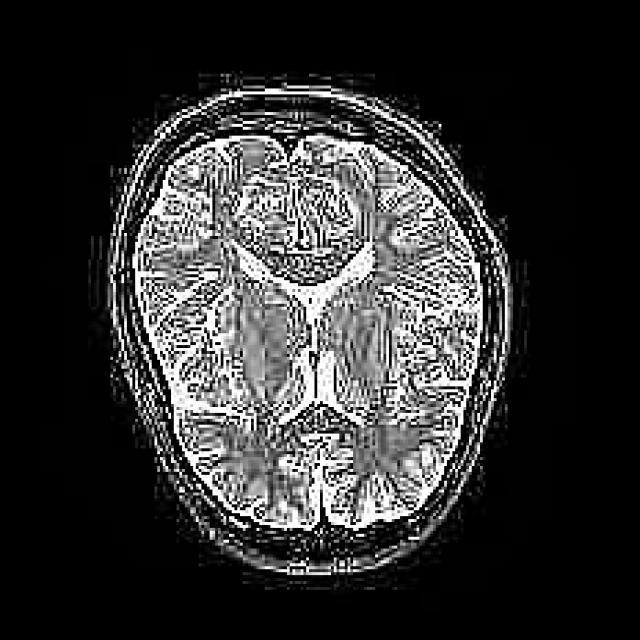notumor: (110, 86, 513, 575)
